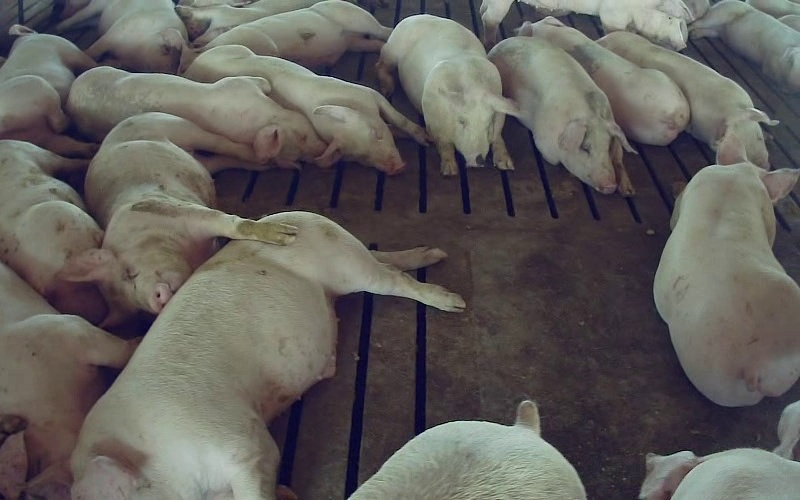pig: (22, 212, 464, 499), (654, 131, 799, 405), (186, 45, 427, 174), (66, 66, 325, 166), (599, 31, 777, 167), (488, 36, 634, 195), (377, 14, 516, 175), (0, 25, 96, 157), (204, 0, 391, 66), (689, 0, 799, 91), (57, 0, 186, 73)
